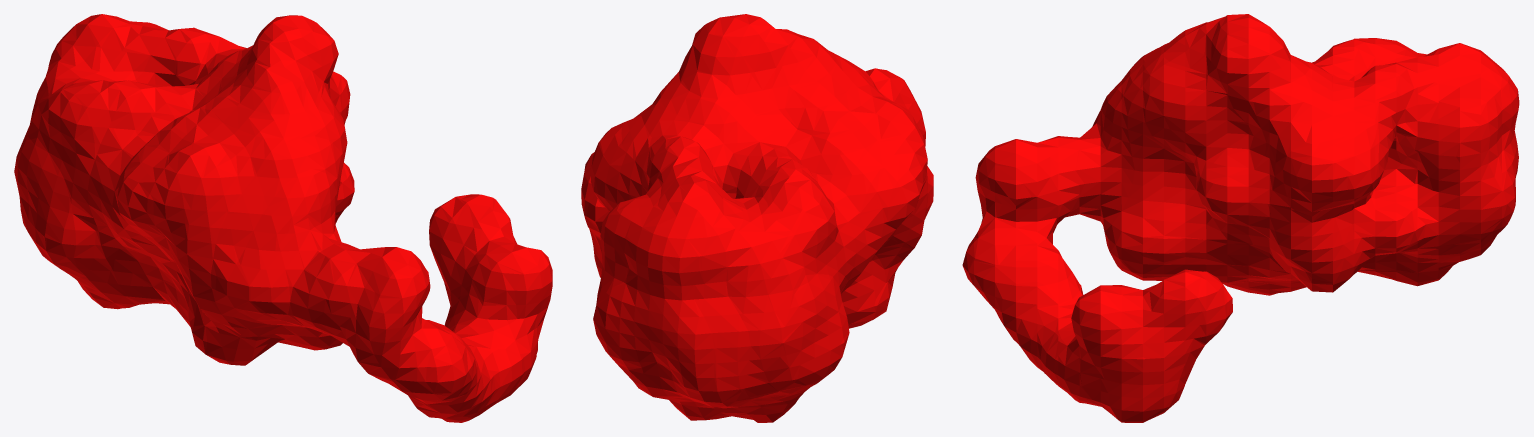
The model's file is argG_coarse.dae.
The picture shows the model from 3 angles, left to right: view 1: azimuth 30°, elevation 25°; view 2: azimuth 150°, elevation 25°; view 3: azimuth 270°, elevation 25°; orthographic projection. The views are drawn at different scales.
Visible parts, largest first — view 1: argG; view 2: argG; view 3: argG.
Boxes of the visible parts, x1=… form: argG: x1=14, y1=14, x2=552, y2=422; argG: x1=581, y1=14, x2=933, y2=422; argG: x1=962, y1=14, x2=1519, y2=422.
Size of the model in its own units: 66.43 by 61.18 by 93.36.
